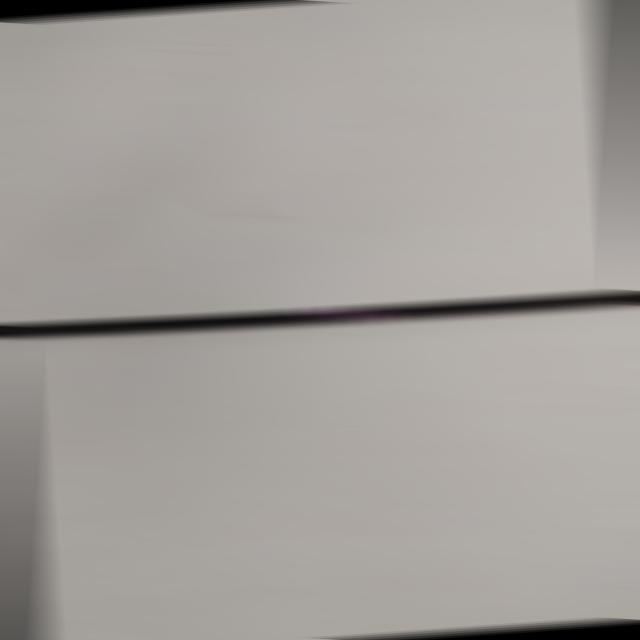pink: (315, 305, 380, 322)
